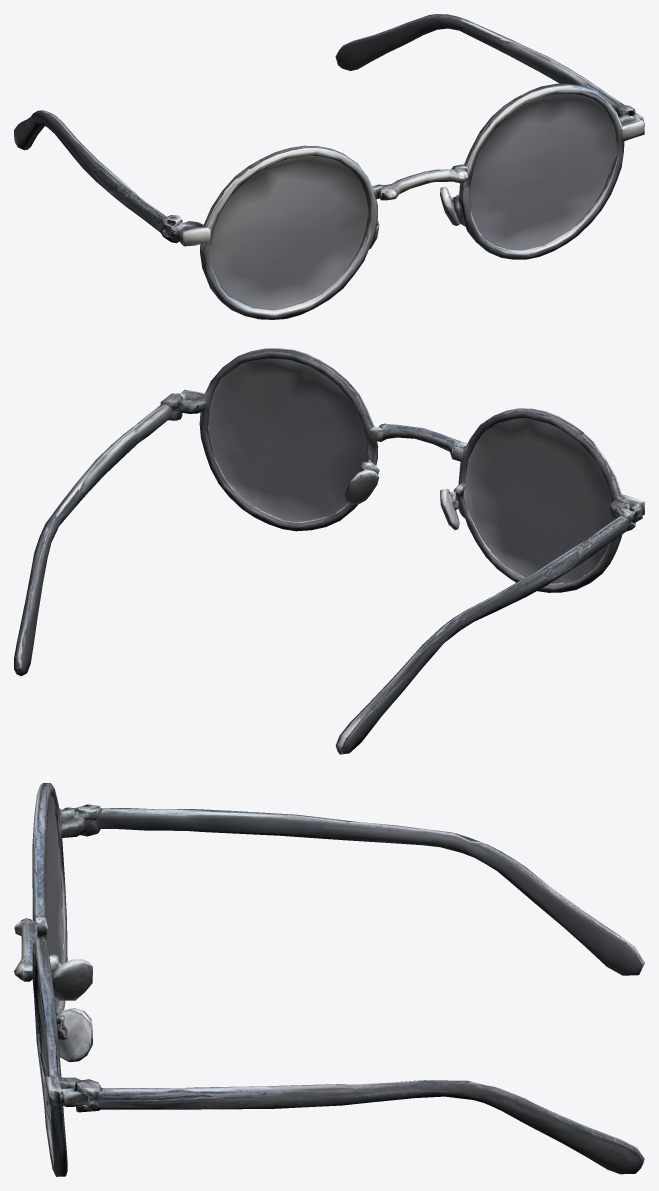
Rendered from gafas.glb.
3 views of the same model, one above another, from view 1: azimuth 30°, elevation 25°; view 2: azimuth 150°, elevation 25°; view 3: azimuth 270°, elevation 25° (orthographic). The views are drawn at different scales.
Parts seen in each view (by area): view 1: gafas; view 2: gafas; view 3: gafas.
Boxes of the visible parts, x1,y1,x2,y2 form: gafas: [14, 14, 644, 319]; gafas: [14, 348, 644, 754]; gafas: [14, 783, 644, 1176].
Size of the model in its own units: 0.2007 by 0.0704 by 0.1854.
Materials: 1 (1 with a texture image).
